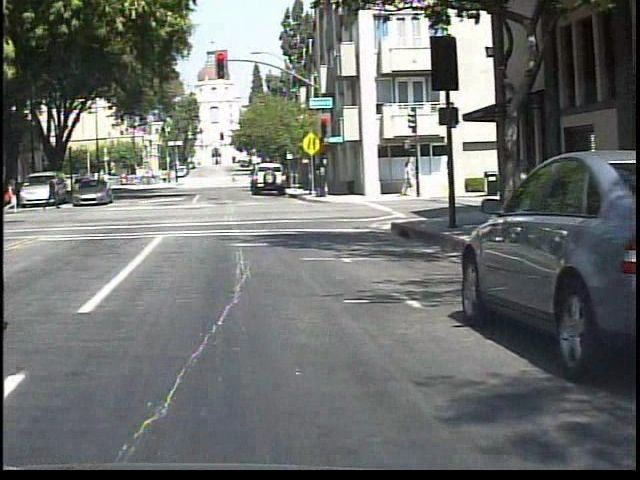person: (43, 171, 59, 212), (4, 175, 18, 215), (225, 170, 239, 188)
